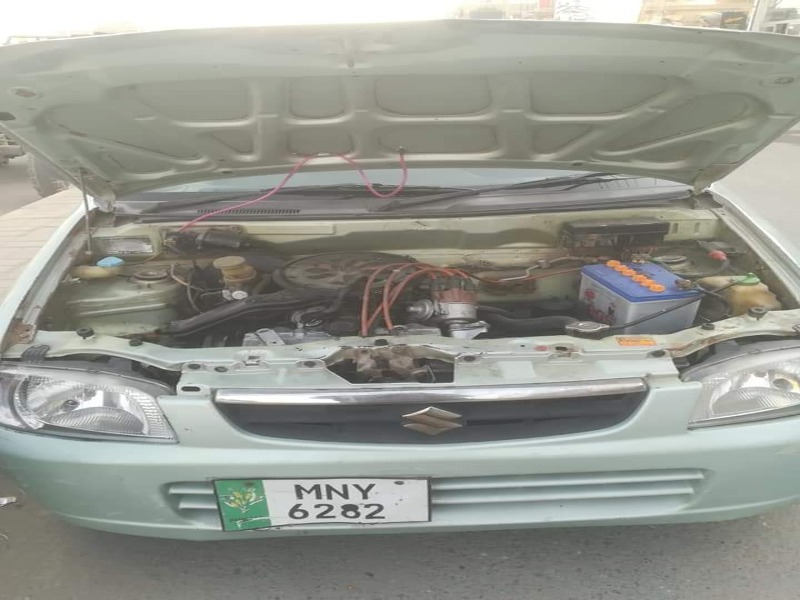License Plate: (205, 473, 439, 538)
